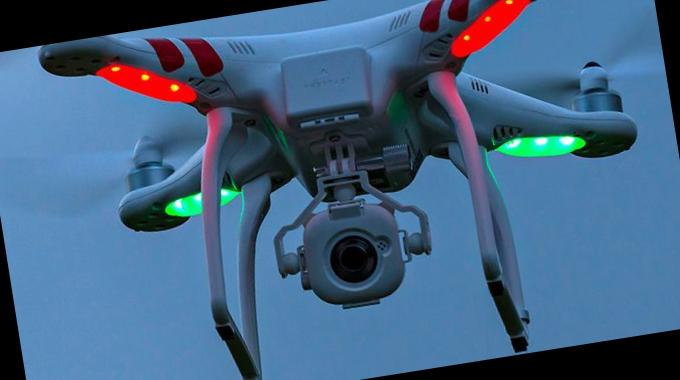drone: (0, 0, 663, 294)
